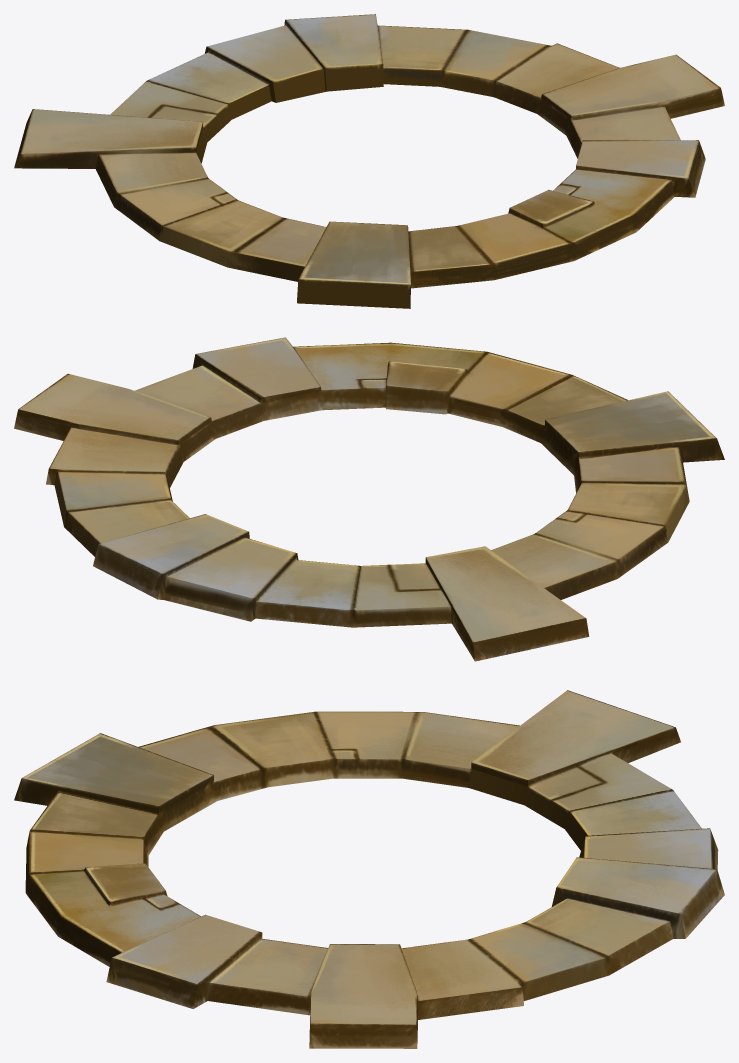
File: Central_Circle.fbx
The picture shows the model from 3 angles, top to bottom: view 1: azimuth 30°, elevation 25°; view 2: azimuth 150°, elevation 25°; view 3: azimuth 270°, elevation 25°; orthographic projection. The views are drawn at different scales.
Parts seen in each view (by area): view 1: Center_Circle; view 2: Center_Circle; view 3: Center_Circle.
Part boxes in pixels (bbox=[...]): Center_Circle: bbox=[14, 14, 724, 308]; Center_Circle: bbox=[14, 337, 724, 661]; Center_Circle: bbox=[14, 690, 724, 1048].
Bounding box in the file's own units: 37.47 × 1.62 × 32.89.
